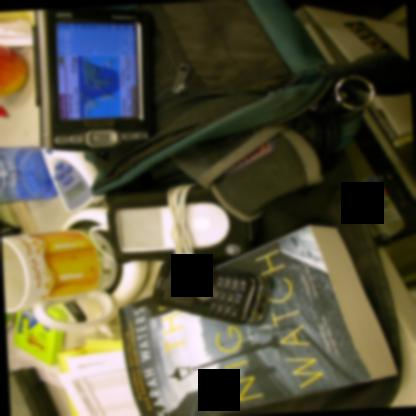backpack: (85, 0, 378, 221)
handbag: (80, 0, 408, 416)
